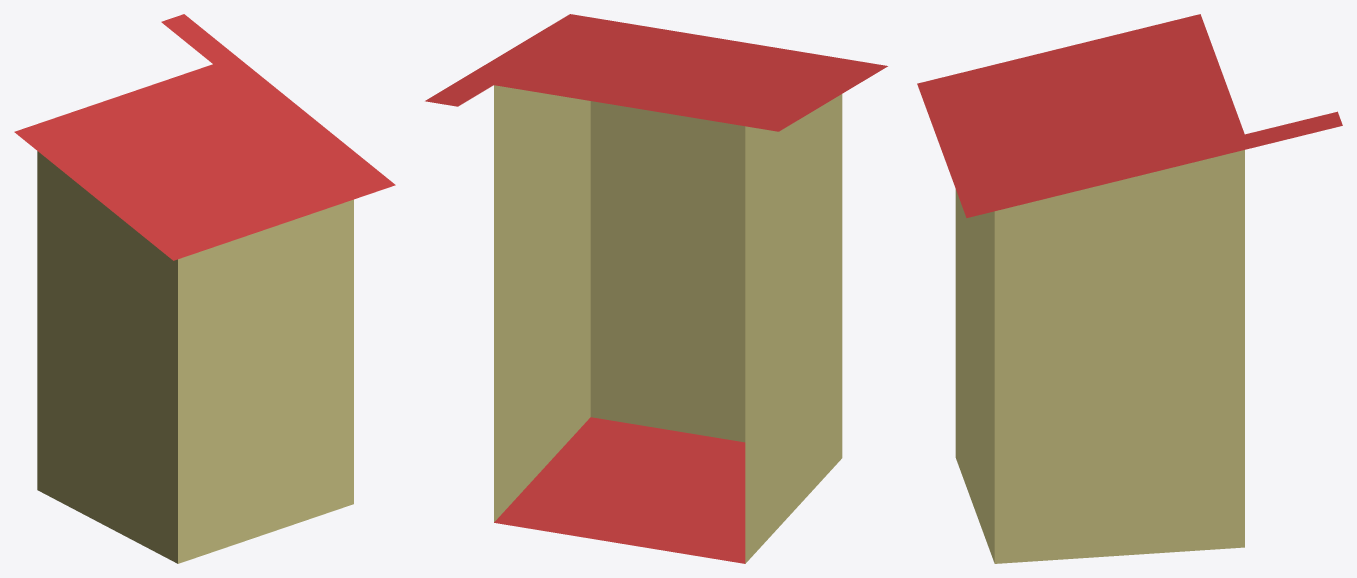
3 views of the same model, side by side, from view 1: azimuth 30°, elevation 25°; view 2: azimuth 150°, elevation 25°; view 3: azimuth 270°, elevation 25° (orthographic). The views are drawn at different scales.
Bounding box in the file's own units: 5.37 × 6.31 × 7.02.
